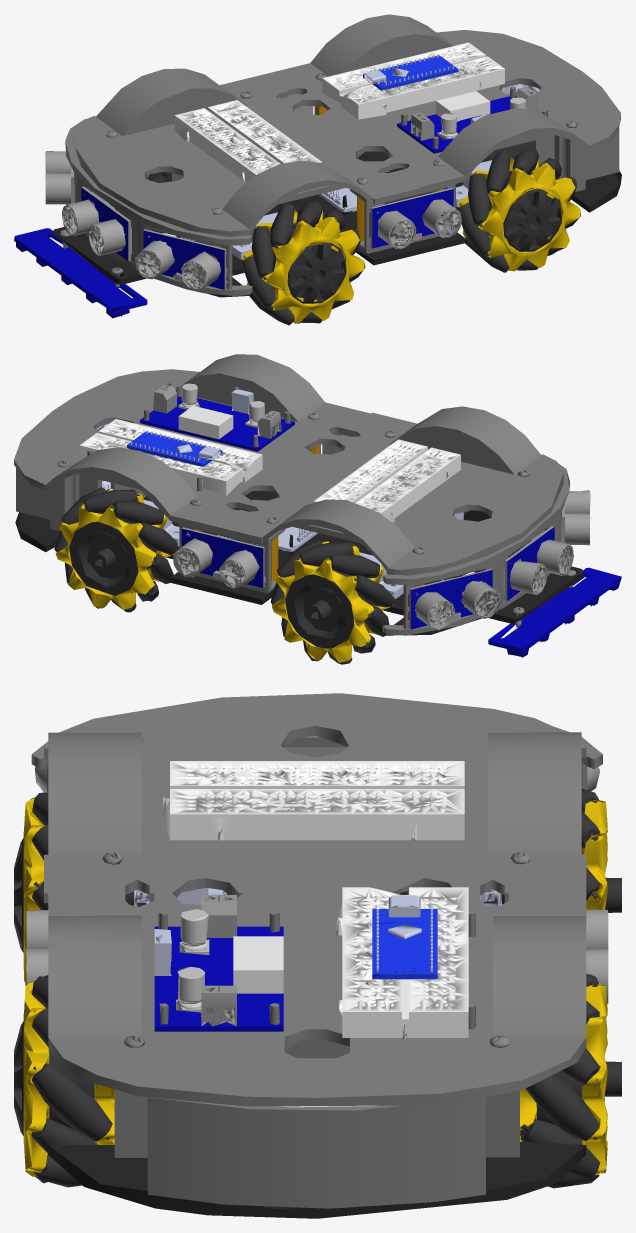
The model's file is omnicar-gallery.glb.
3 views of the same model, one above another, from view 1: azimuth 30°, elevation 25°; view 2: azimuth 150°, elevation 25°; view 3: azimuth 270°, elevation 25° (orthographic). The views are drawn at different scales.
Size of the model in its own units: 0.2942 by 0.0764 by 0.1696.
